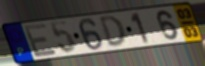1: (129, 11, 151, 45)
5: (47, 19, 79, 55)
6: (77, 17, 104, 52), (156, 9, 180, 42)
D: (98, 15, 129, 49)
E: (22, 22, 59, 59)
